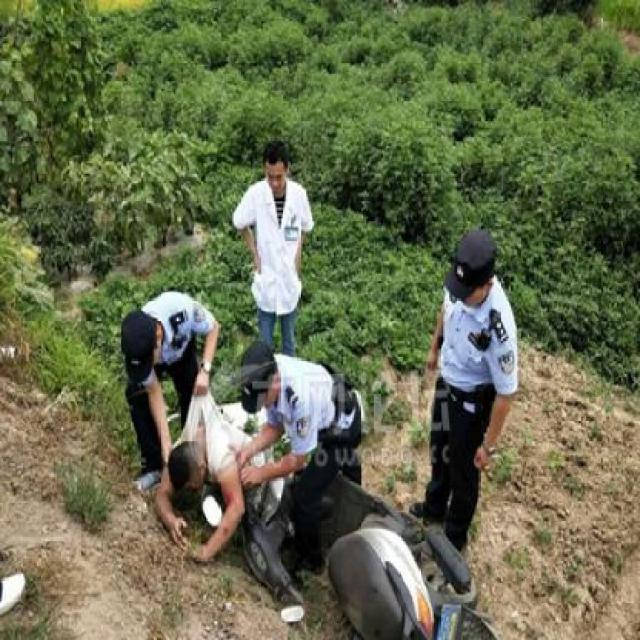fall: (142, 394, 296, 578)
